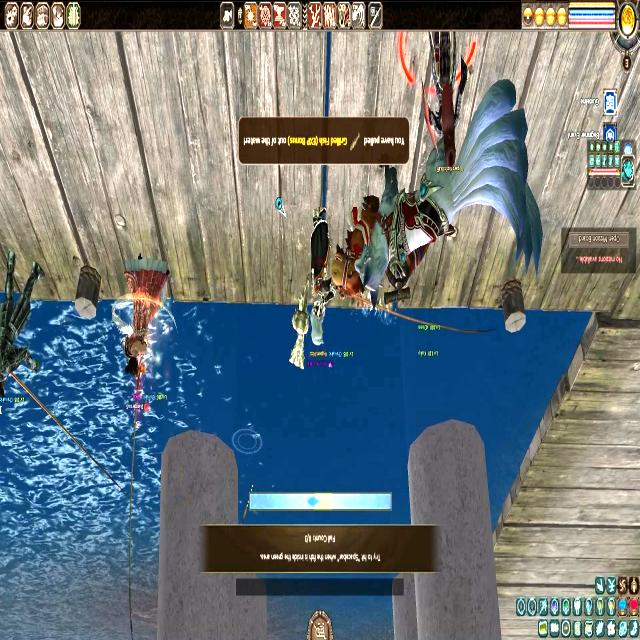fishes: (306, 494, 320, 510)
